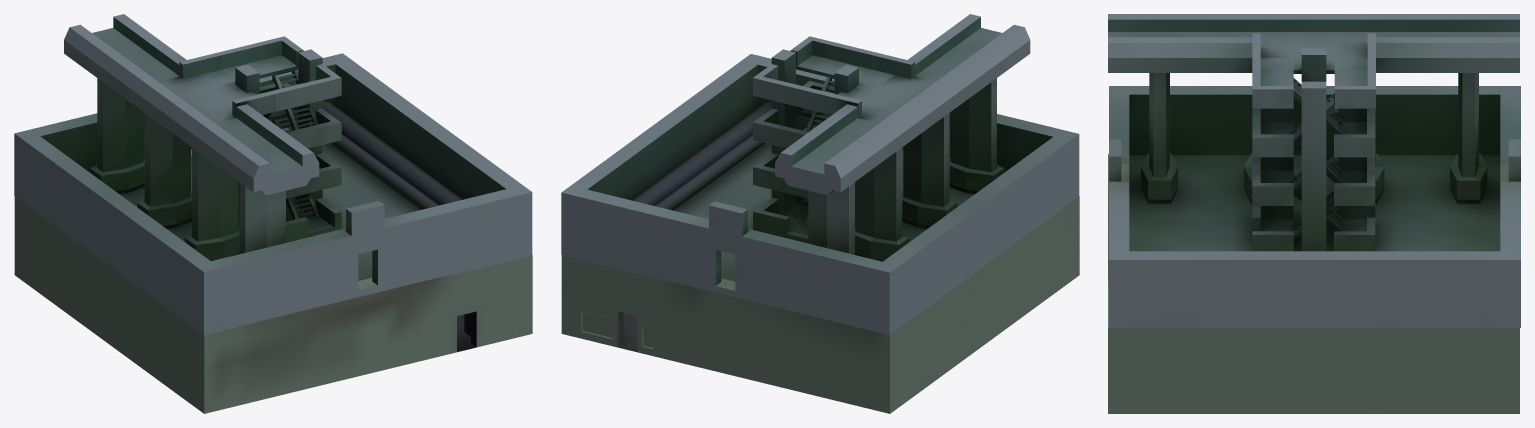
The picture shows the model from 3 angles, left to right: view 1: azimuth 30°, elevation 25°; view 2: azimuth 150°, elevation 25°; view 3: azimuth 270°, elevation 25°; orthographic projection. The views are drawn at different scales.
Visible parts, largest first — view 1: two_tank_roof09, skybridge stairs01, tank steamtunnels01, Cylinder16; view 2: two_tank_roof09, skybridge stairs01, tank steamtunnels01, Cylinder16; view 3: two_tank_roof09, skybridge stairs01, tank steamtunnels01.
Part boxes in pixels (<box>): two_tank_roof09: <box>14,53,532,334</box>; skybridge stairs01: <box>64,14,341,260</box>; tank steamtunnels01: <box>14,153,532,413</box>; Cylinder16: <box>322,101,462,209</box>; two_tank_roof09: <box>561,54,1079,334</box>; skybridge stairs01: <box>753,14,1030,261</box>; tank steamtunnels01: <box>561,153,1079,413</box>; Cylinder16: <box>631,101,771,210</box>; two_tank_roof09: <box>1109,86,1520,327</box>; skybridge stairs01: <box>1108,14,1519,251</box>; tank steamtunnels01: <box>1108,154,1519,413</box>.
Bounding box in the file's own units: 20 × 14 × 20.04.
